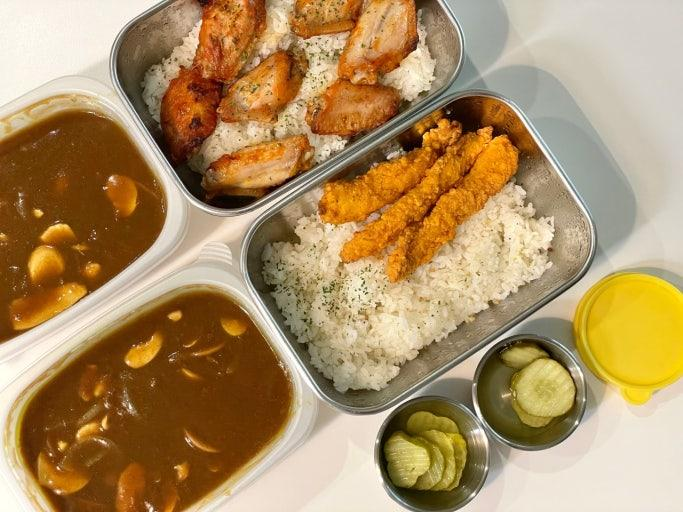Lunch Box: (243, 92, 593, 411), (0, 242, 316, 511), (110, 0, 461, 214), (0, 76, 186, 362), (573, 272, 682, 404), (374, 396, 490, 511), (472, 335, 585, 450)
